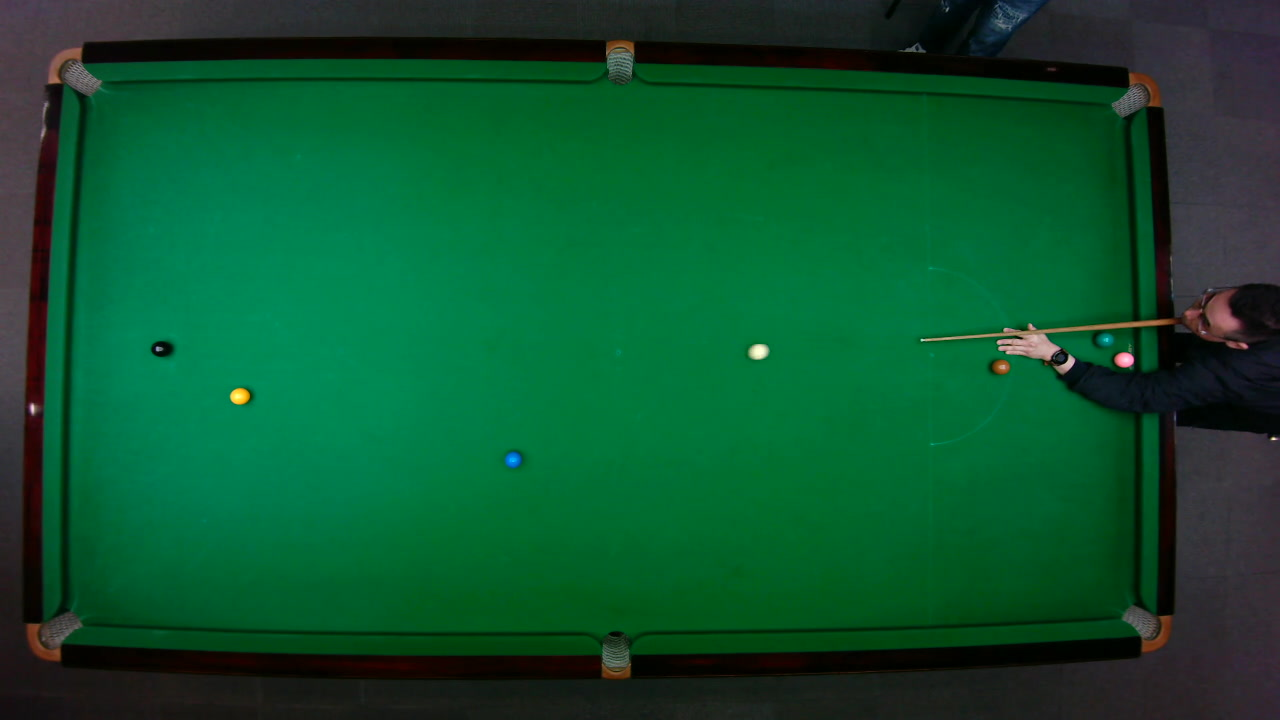bag: (25, 609, 83, 661), (45, 46, 102, 96), (1119, 603, 1171, 652), (1108, 71, 1161, 118), (600, 629, 629, 680), (605, 38, 633, 85)
black: (149, 339, 171, 357)
blue: (503, 450, 522, 468)
brown: (990, 358, 1010, 374)
cue: (917, 315, 1177, 342)
green: (1093, 331, 1114, 347)
pink: (1112, 350, 1134, 368)
white: (746, 341, 770, 360)
yellow: (228, 386, 251, 405)
zone: (926, 263, 1009, 445)
